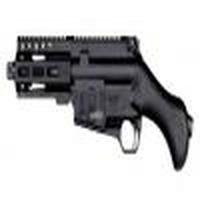gun: (5, 35, 194, 167)
